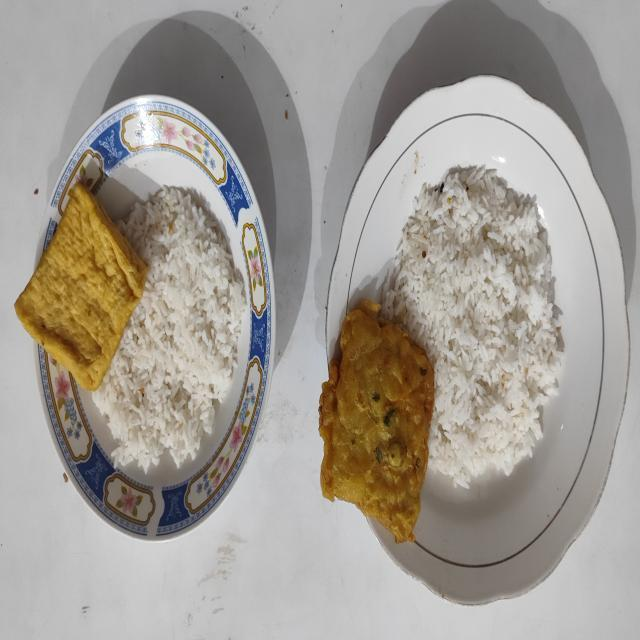nasi_putih: (380, 164, 564, 488), (92, 184, 248, 470)
tahu_goreng: (15, 183, 147, 391)
